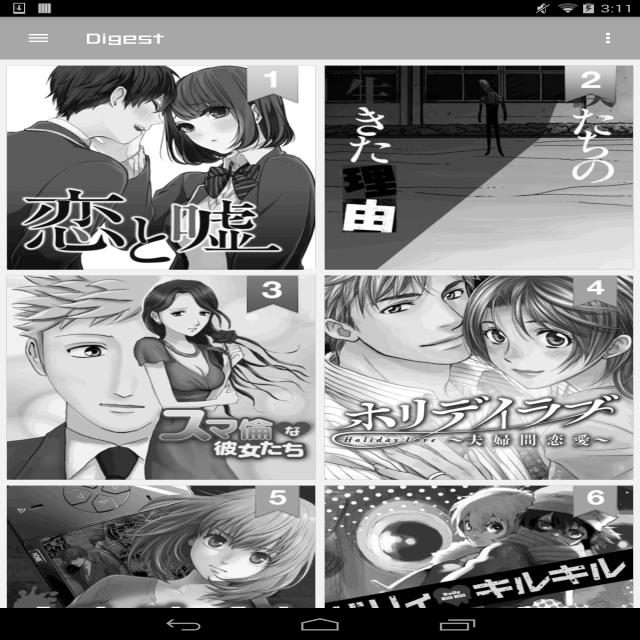ImageButton: (9, 17, 68, 59)
ImageView: (7, 66, 315, 270), (325, 66, 633, 270), (7, 276, 315, 480), (325, 276, 633, 480), (6, 485, 315, 640), (324, 485, 633, 640), (240, 66, 304, 106), (558, 66, 622, 106), (240, 276, 304, 316), (558, 276, 622, 316), (240, 486, 304, 526), (558, 486, 622, 526), (589, 22, 631, 54)
TextView: (86, 30, 164, 46)
